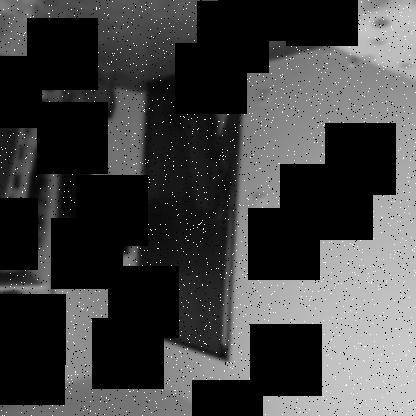Porte: (128, 52, 246, 366)
